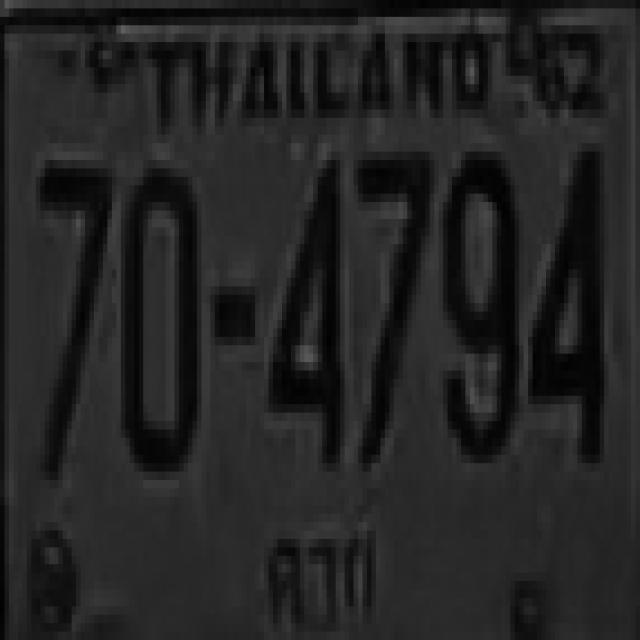0: (121, 160, 197, 463)
4: (528, 143, 600, 455), (269, 156, 340, 459)
7: (354, 143, 429, 455), (36, 156, 107, 467)
9: (438, 143, 514, 455)
Tak: (255, 504, 377, 631)
